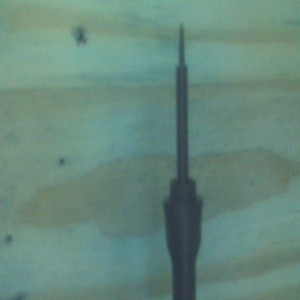solder: (162, 21, 204, 300)
